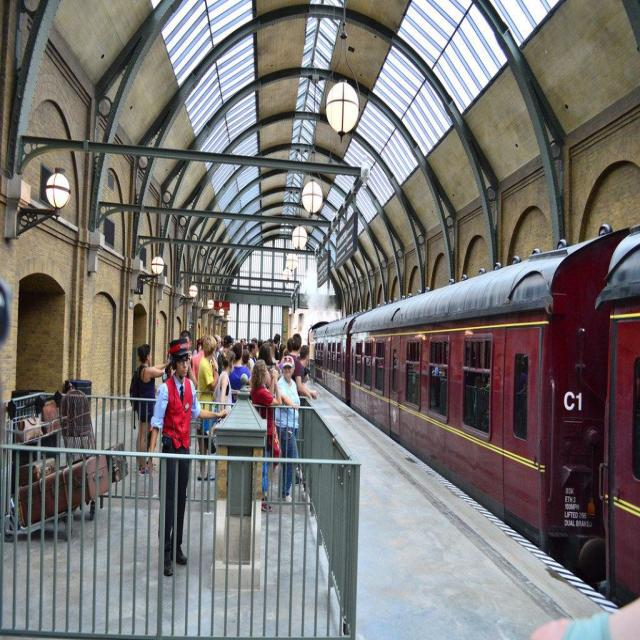body: (146, 336, 229, 579), (128, 342, 170, 477), (248, 359, 283, 513), (274, 354, 302, 504), (195, 334, 219, 484), (194, 336, 218, 456), (280, 333, 313, 399), (228, 341, 253, 409), (290, 344, 318, 400), (212, 348, 236, 412), (221, 330, 281, 354), (191, 334, 216, 384), (179, 328, 200, 349), (279, 337, 292, 356)
